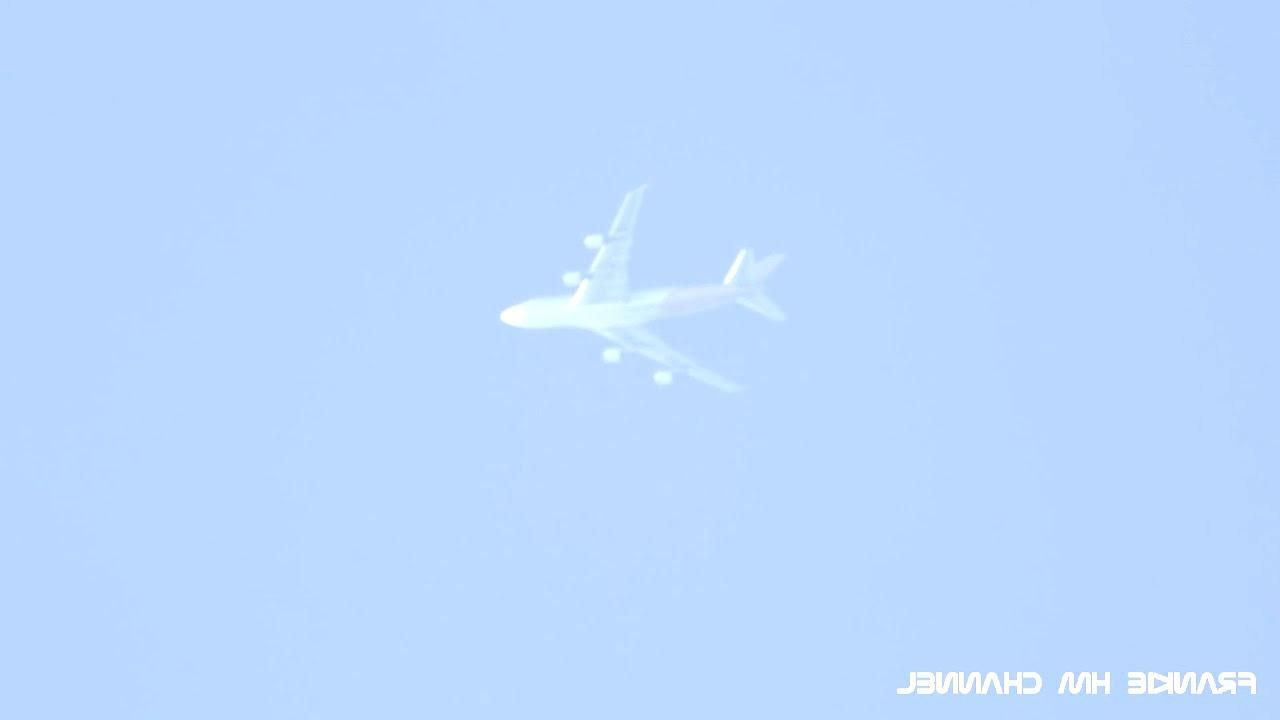Plane: (424, 175, 861, 413)
